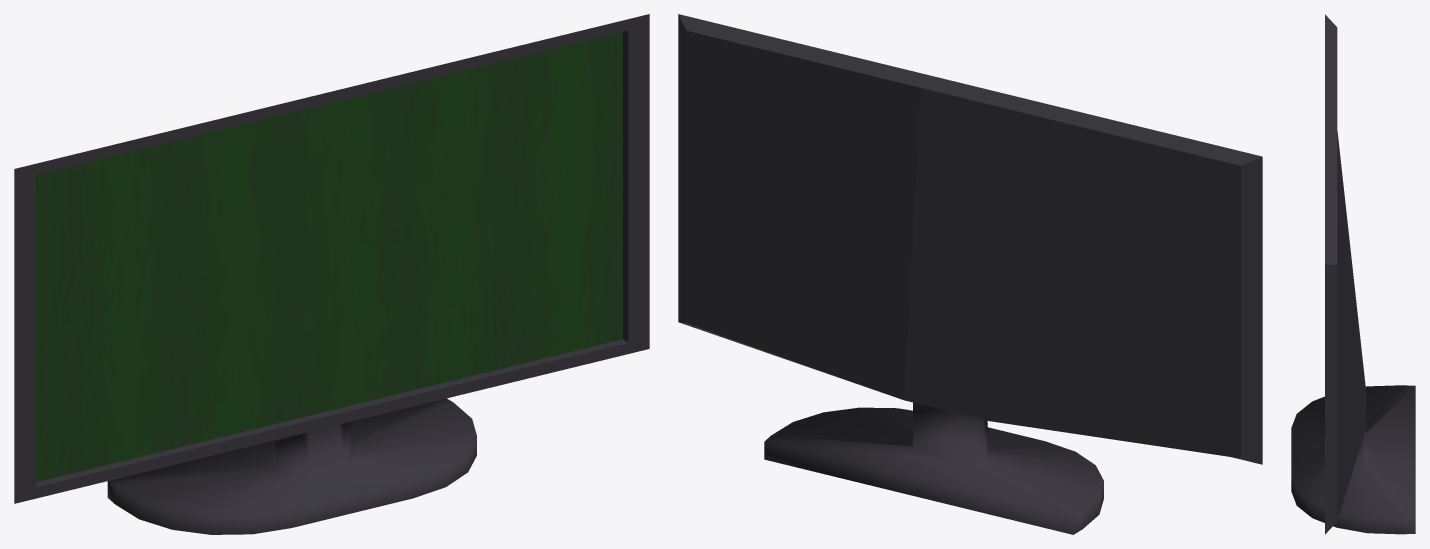
The model's file is Computer Monitor.fbx.
3 views of the same model, side by side, from view 1: azimuth 30°, elevation 25°; view 2: azimuth 150°, elevation 25°; view 3: azimuth 270°, elevation 25° (orthographic). The views are drawn at different scales.
Visible parts, largest first — view 1: Cube; view 2: Cube; view 3: Cube.
Boxes of the visible parts, left/top/right/bottom form: Cube: left=14, top=14, right=649, bottom=534; Cube: left=678, top=14, right=1262, bottom=534; Cube: left=1291, top=14, right=1415, bottom=534.
Bounding box in the file's own units: 397 × 243 × 83.29.
